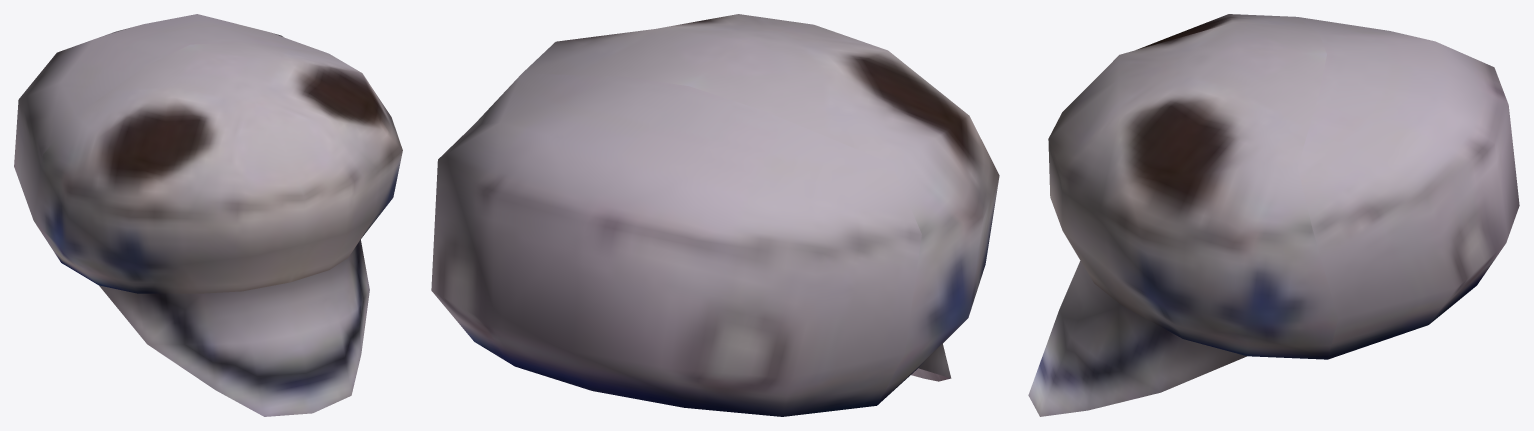
Rendered from nurseCap.glb.
3 renders of one model, left to right at view 1: azimuth 30°, elevation 25°; view 2: azimuth 150°, elevation 25°; view 3: azimuth 270°, elevation 25°, orthographic. The views are drawn at different scales.
Visible parts, largest first — view 1: nurseCap; view 2: nurseCap; view 3: nurseCap.
Boxes of the visible parts, x1,y1,x2,y2 form: nurseCap: (14,14,402,416); nurseCap: (431,14,999,416); nurseCap: (1028,14,1519,416).
Bounding box in the file's own units: 0.2895 × 0.2448 × 0.3155.
Materials: 1 (1 with a texture image).
